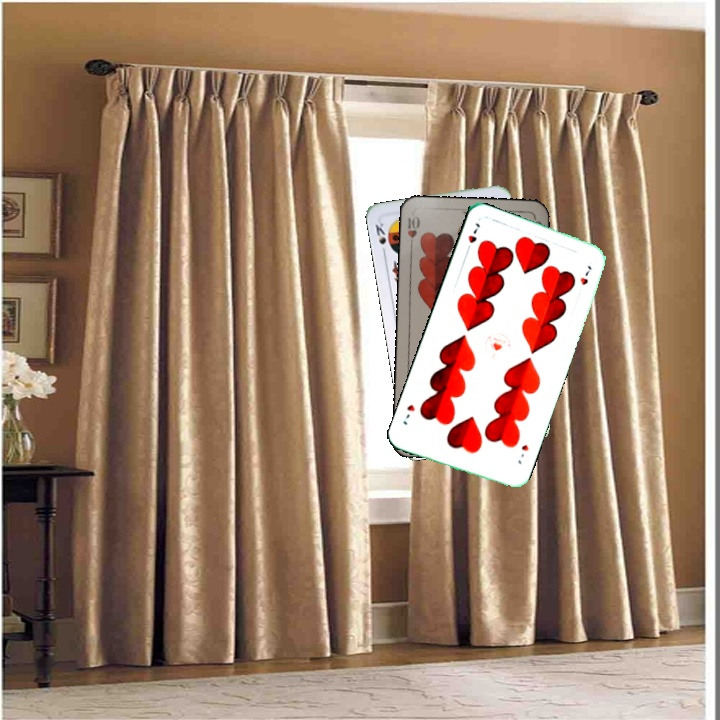H10: (403, 212, 423, 251)
H7: (462, 219, 483, 256), (514, 440, 531, 467)
SK: (371, 219, 394, 258)
